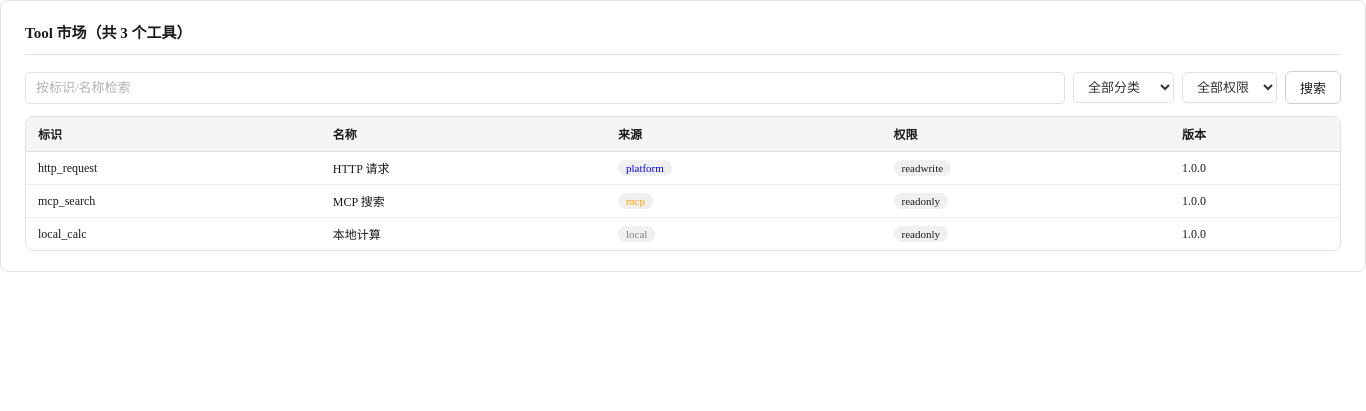
Test: ToolMarketPanel › TC-TMP-03 点击工具 → 详情渲染（含 schema 摘要）
The image size is (1366, 411).
Expected: the table with test id "tool-market-table" is shown, [25,116,1341,251]
Click the row with test id "tool-market-tool-http_request": {"x": 683, "y": 168} [26,152,1340,185]
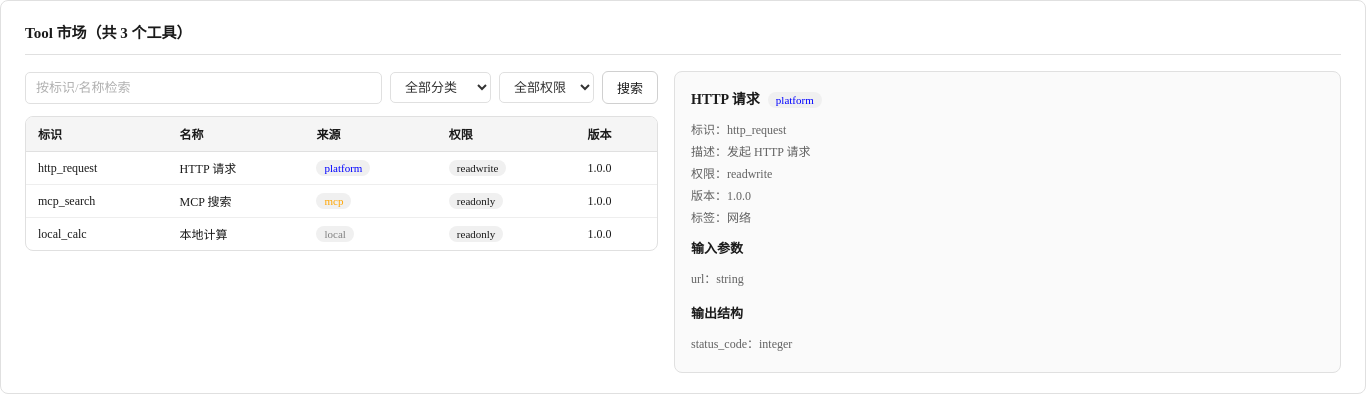
Result: the element with test id "tool-market-detail" shows "HTTP 请求" at [691,92,760,107]
Result: the element with test id "tool-market-detail" shows "http_request" at [727,123,786,137]
Result: the element with test id "tool-market-input-schema" shows "url：string" at [691,241,744,286]
